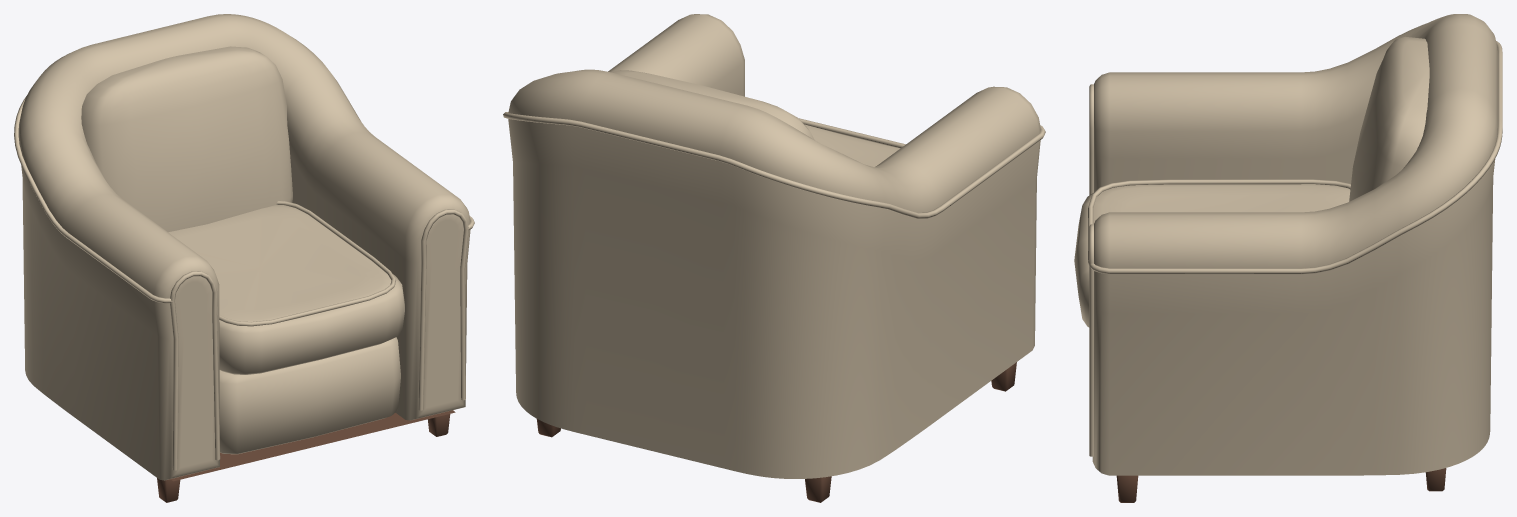
File: Kit_ClubChair_Oatmeal.fbx
3 views of the same model, side by side, from view 1: azimuth 30°, elevation 25°; view 2: azimuth 150°, elevation 25°; view 3: azimuth 270°, elevation 25° (orthographic). The views are drawn at different scales.
Visible parts, largest first — view 1: Kit_ClubChair_LOD0; view 2: Kit_ClubChair_LOD0; view 3: Kit_ClubChair_LOD0.
Boxes of the visible parts, left/top/right/bottom form: Kit_ClubChair_LOD0: left=14, top=14, right=474, bottom=502; Kit_ClubChair_LOD0: left=503, top=14, right=1045, bottom=502; Kit_ClubChair_LOD0: left=1074, top=14, right=1502, bottom=502.
Size of what is drawn, in the model's own units: 0.85 by 0.82 by 0.8614.
